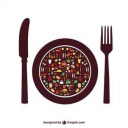Fork: (95, 20, 118, 110)
